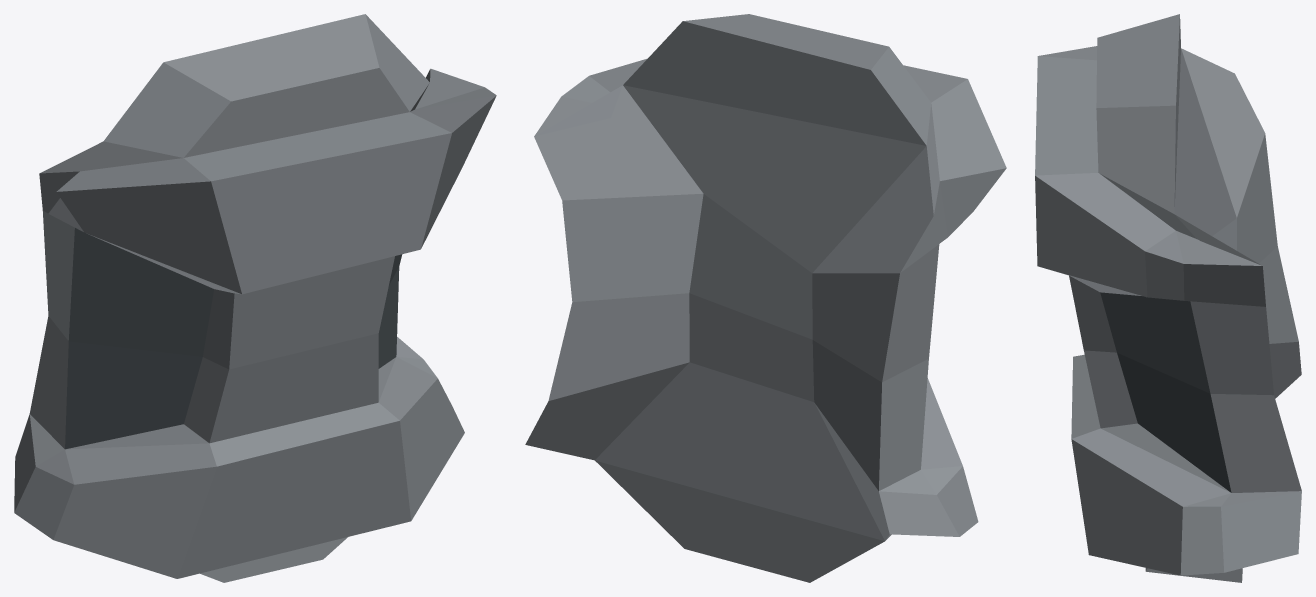
The model's file is Chr_KneeAttachLeft_01_Static.fbx.
3 views of the same model, side by side, from view 1: azimuth 30°, elevation 25°; view 2: azimuth 150°, elevation 25°; view 3: azimuth 270°, elevation 25° (orthographic). The views are drawn at different scales.
Parts seen in each view (by area): view 1: Chr_KneeAttachLeft_01_Static; view 2: Chr_KneeAttachLeft_01_Static; view 3: Chr_KneeAttachLeft_01_Static.
Boxes of the visible parts, x1=… form: Chr_KneeAttachLeft_01_Static: x1=14, y1=14, x2=496, y2=582; Chr_KneeAttachLeft_01_Static: x1=525, y1=14, x2=1006, y2=582; Chr_KneeAttachLeft_01_Static: x1=1035, y1=14, x2=1301, y2=582.
Size of the model in its own units: 0.1555 by 0.1731 by 0.0844.
